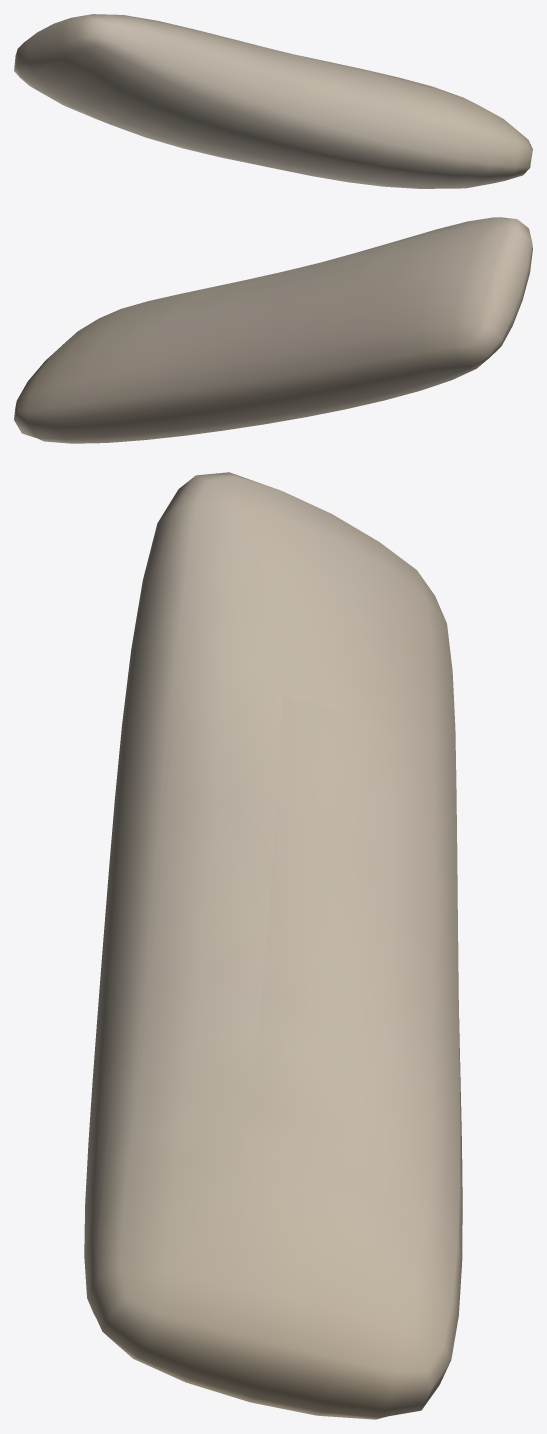
3 renders of one model, top to bottom at view 1: azimuth 30°, elevation 25°; view 2: azimuth 150°, elevation 25°; view 3: azimuth 270°, elevation 25°, orthographic. The views are drawn at different scales.
Parts seen in each view (by area): view 1: CC R1, CC R1 low; view 2: CC R1; view 3: CC R1, CC R1 low.
Boxes of the visible parts, x1,y1,x2,y2 form: CC R1: (14,14,532,188); CC R1 low: (222,50,426,137); CC R1: (14,217,532,443); CC R1: (84,472,462,1419); CC R1 low: (100,690,459,1122).
Size of the model in its own units: 1.17 by 0.6486 by 0.4109.
1 material, 1 textured.
